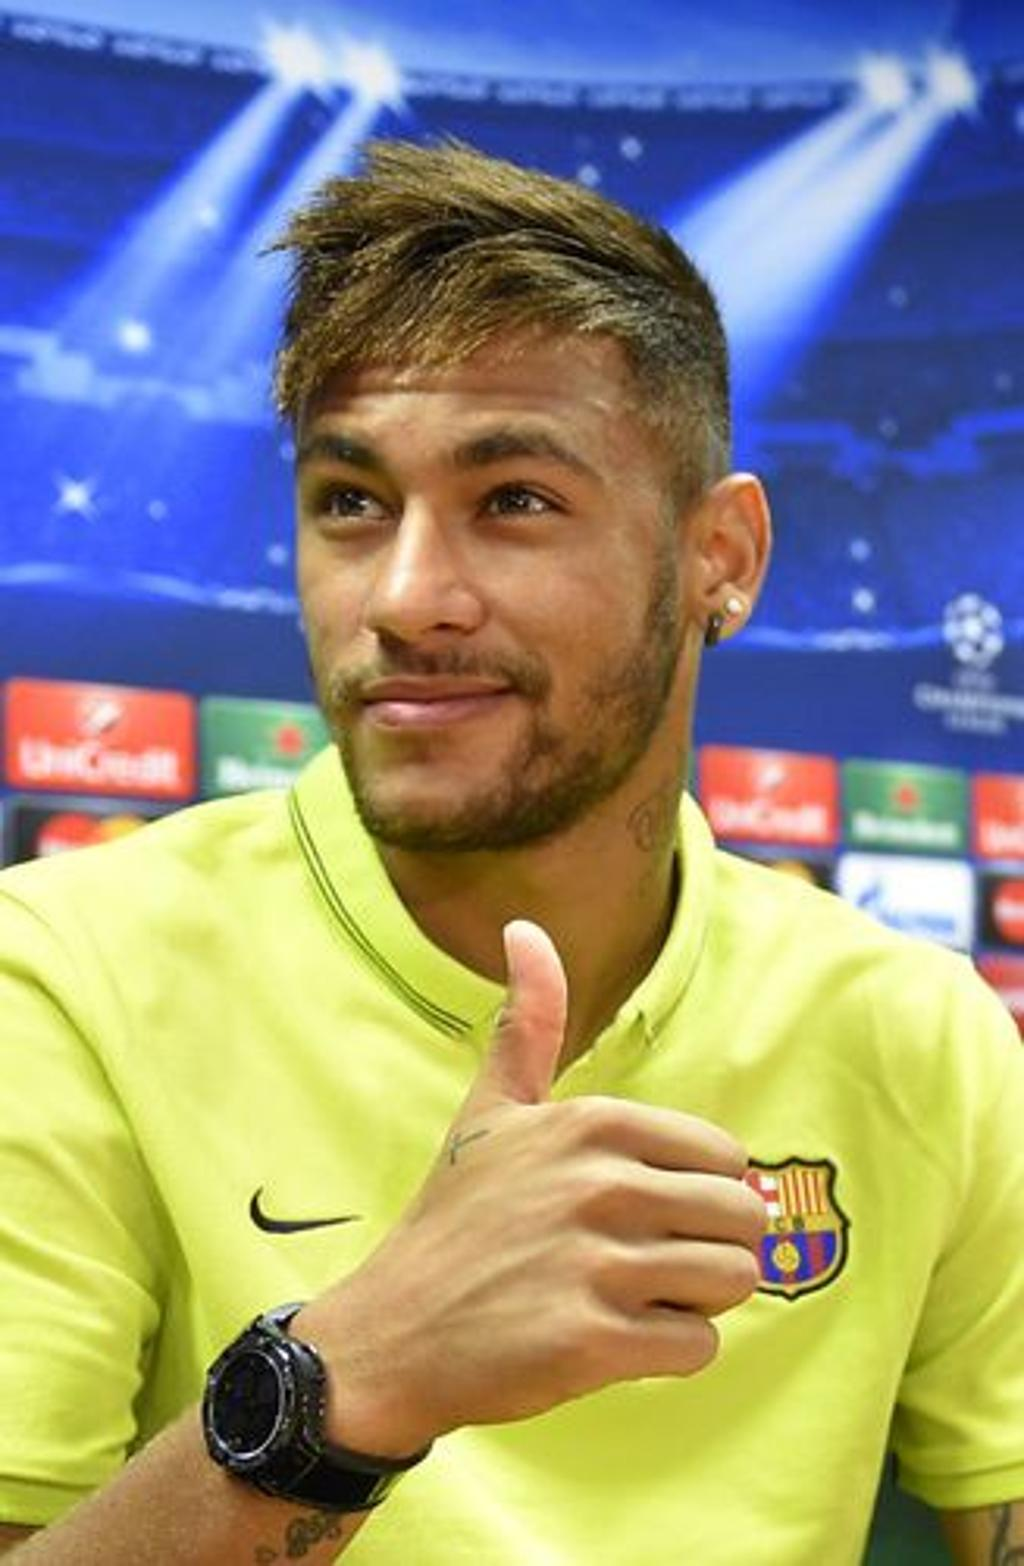face: (293, 345, 700, 849)
